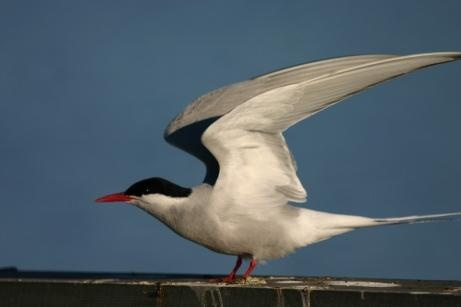bird: (92, 49, 461, 282)
